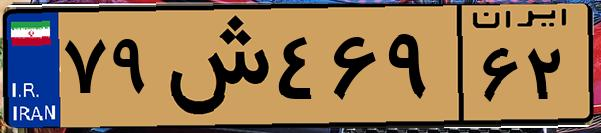2: (525, 38, 570, 115)
4: (270, 28, 330, 110)
6: (330, 28, 385, 110), (475, 38, 525, 113)
7: (57, 26, 110, 100)
9: (385, 28, 445, 110), (110, 28, 158, 98)
ش: (158, 12, 270, 120)
